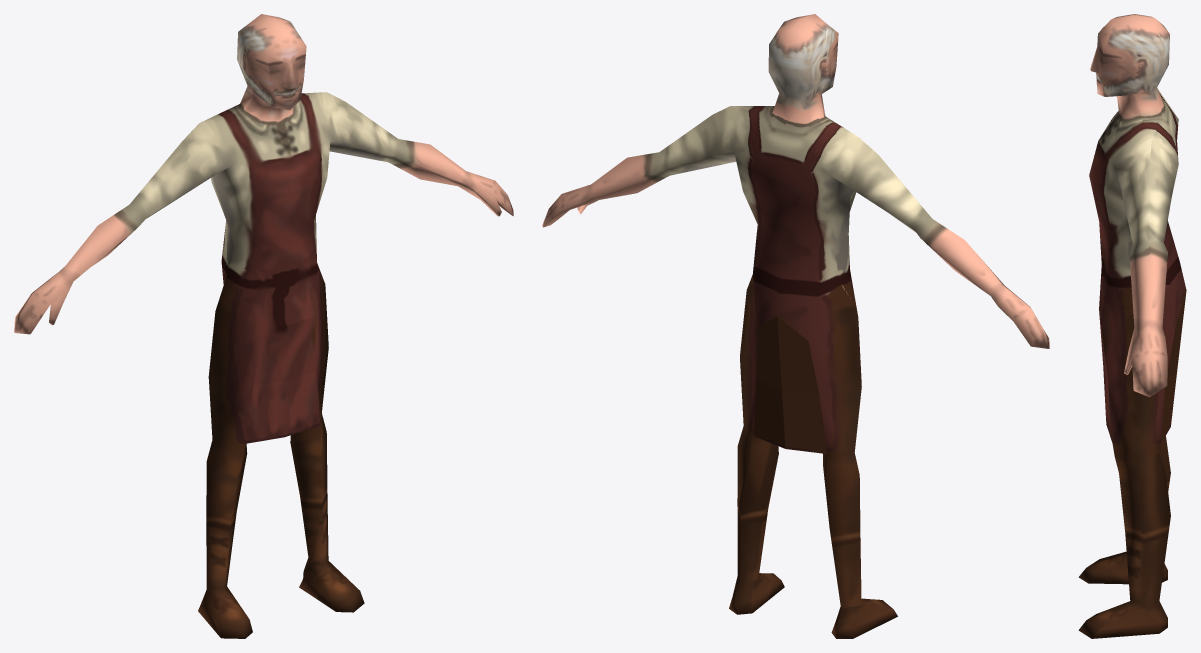
Rendered from Bartender.fbx.
3 renders of one model, left to right at view 1: azimuth 30°, elevation 25°; view 2: azimuth 150°, elevation 25°; view 3: azimuth 270°, elevation 25°, orthographic.
Parts seen in each view (by area): view 1: Bartender; view 2: Bartender; view 3: Bartender.
Boxes of the visible parts, box(x1,y1,x2,y2) form: Bartender: box(14, 14, 513, 638); Bartender: box(542, 14, 1049, 638); Bartender: box(1078, 14, 1186, 638).
Size of the model in its own units: 161 by 181 by 30.1.
Materials: 1 (1 with a texture image).
